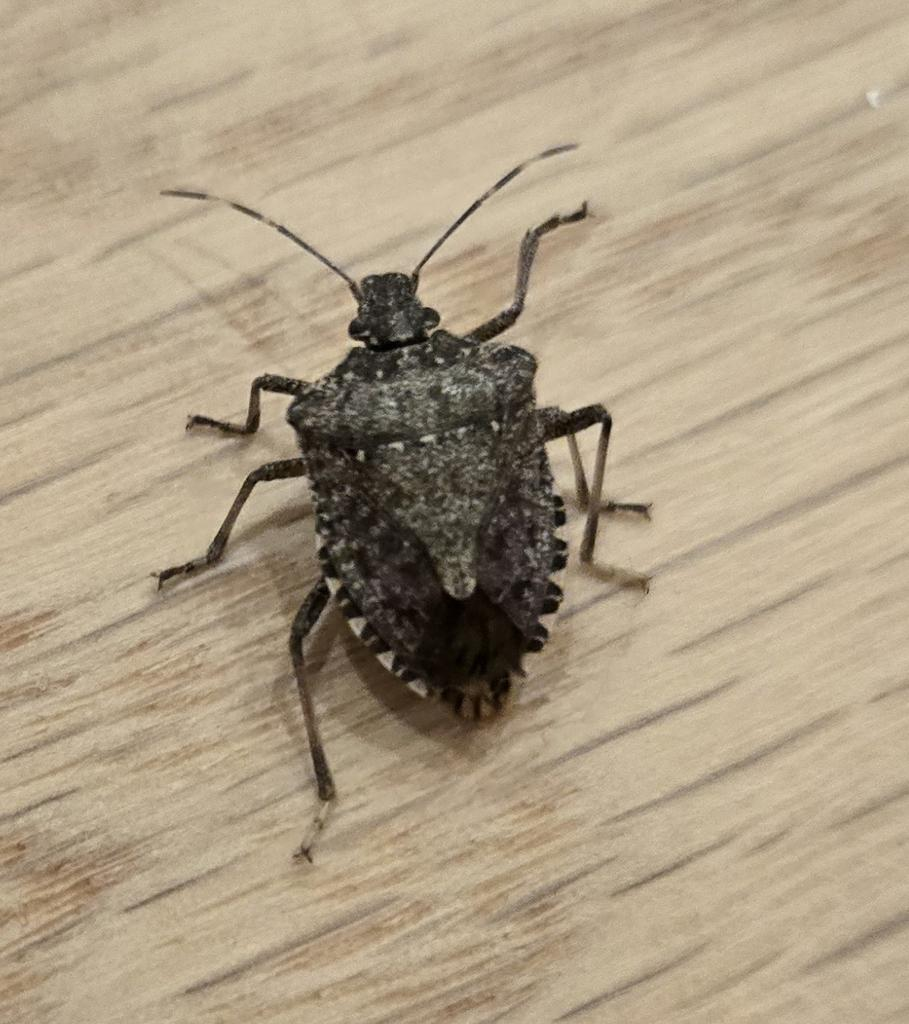stink_bugs: (76, 56, 807, 903)
